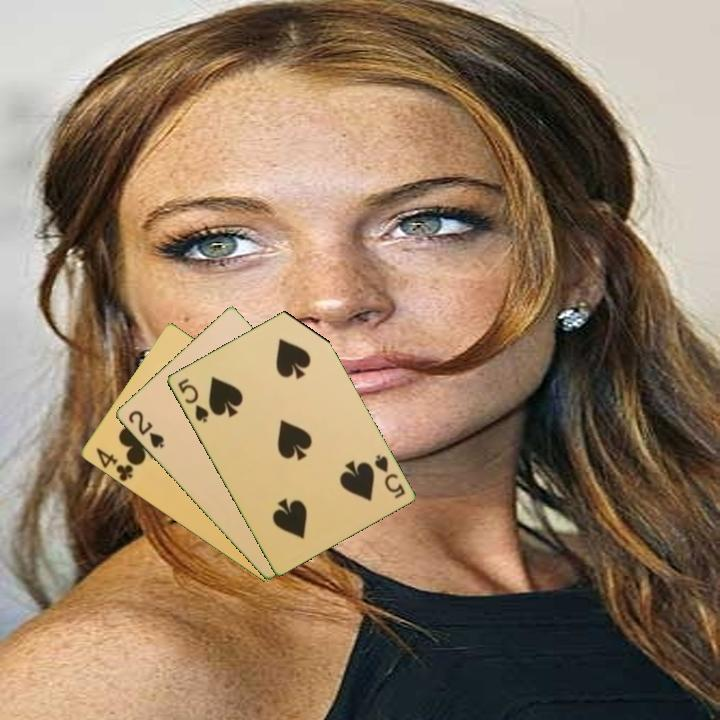2s: (124, 407, 167, 452)
4c: (92, 444, 136, 484)
5s: (370, 451, 408, 501), (174, 374, 211, 425)
